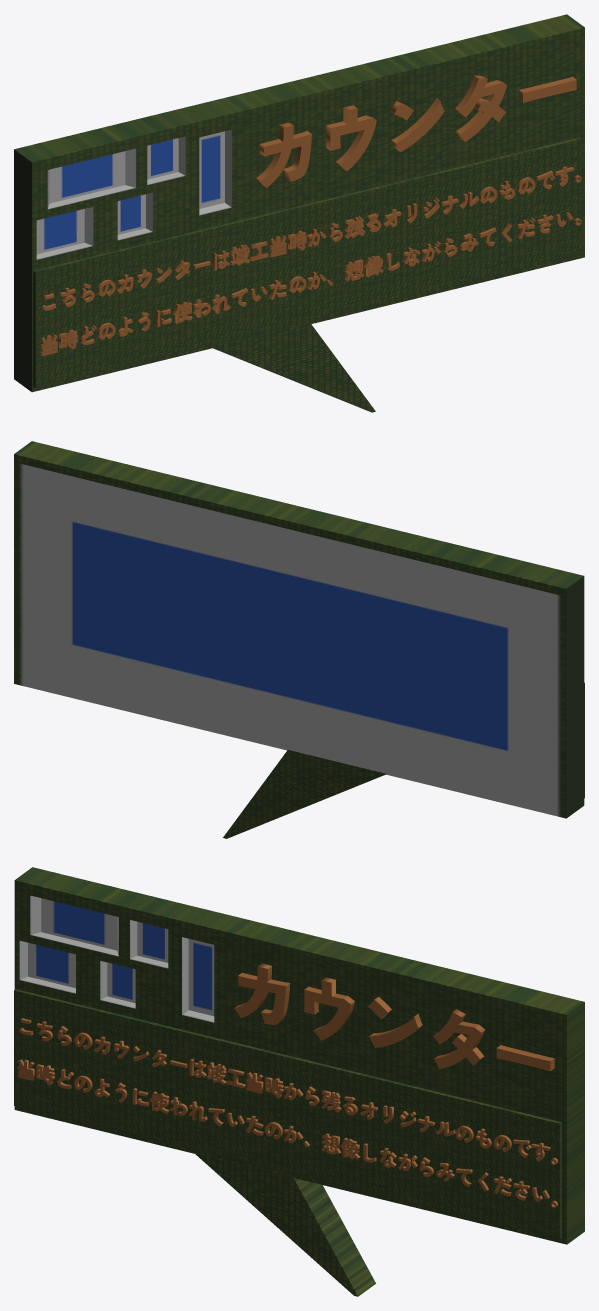
File: fukidasi-kaunta.glb
3 views of the same model, one above another, from view 1: azimuth 30°, elevation 25°; view 2: azimuth 150°, elevation 25°; view 3: azimuth 330°, elevation 25° (orthographic).
Visible parts, largest first — view 1: 立方体, 立方体.002, テキスト, テキスト.002, 立方体.001; view 2: 立方体, 立方体.001; view 3: 立方体, 立方体.002, テキスト, 立方体.001, テキスト.002.
Boxes of the visible parts, x1,y1,x2,y2 form: 立方体: (14,14,584,392); 立方体.002: (33,137,581,387); テキスト: (40,166,581,356); テキスト.002: (255,75,576,187); 立方体.001: (211,323,375,412); 立方体: (14,441,584,818); 立方体.001: (223,750,386,838); 立方体: (14,867,584,1244); 立方体.002: (14,989,561,1238); テキスト: (17,1018,558,1208); 立方体.001: (194,1152,375,1296); テキスト.002: (234,963,554,1071).
Bounding box in the file's own units: 11.12 × 6.4 × 0.7737.
Materials: 4 (3 with a texture image).
